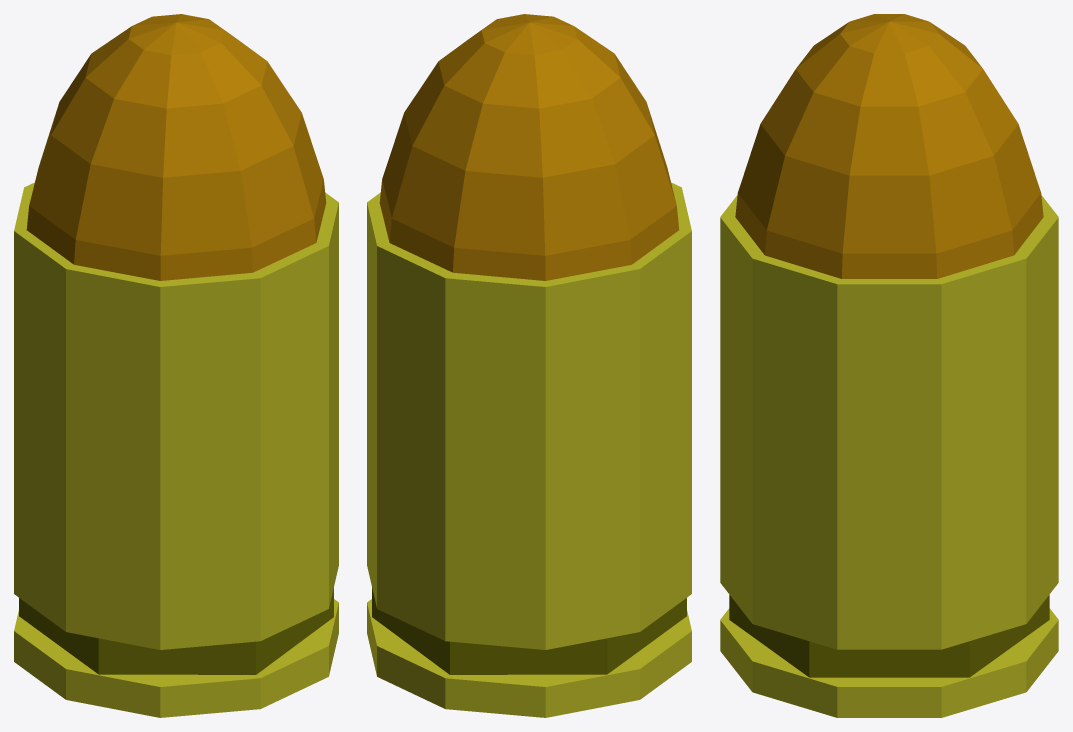
File: HGyakkyou.fbx
The picture shows the model from 3 angles, left to right: view 1: azimuth 30°, elevation 25°; view 2: azimuth 150°, elevation 25°; view 3: azimuth 270°, elevation 25°; orthographic projection.
Parts seen in each view (by area): view 1: HGyakkyou; view 2: HGyakkyou; view 3: HGyakkyou.
Part boxes in pixels (x1=…): HGyakkyou: x1=14, y1=14, x2=338, y2=717; HGyakkyou: x1=367, y1=14, x2=691, y2=717; HGyakkyou: x1=720, y1=14, x2=1058, y2=717.
Size of the model in its own units: 21.62 by 47.31 by 23.07.
